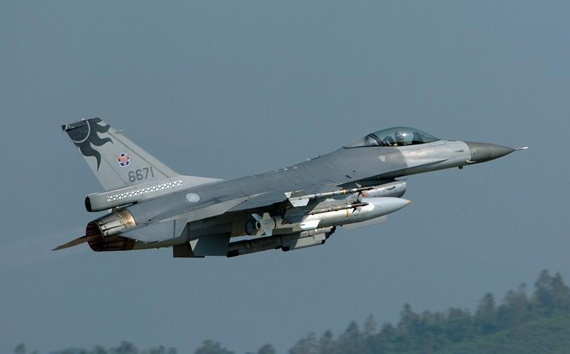airplane: (39, 115, 531, 260)
